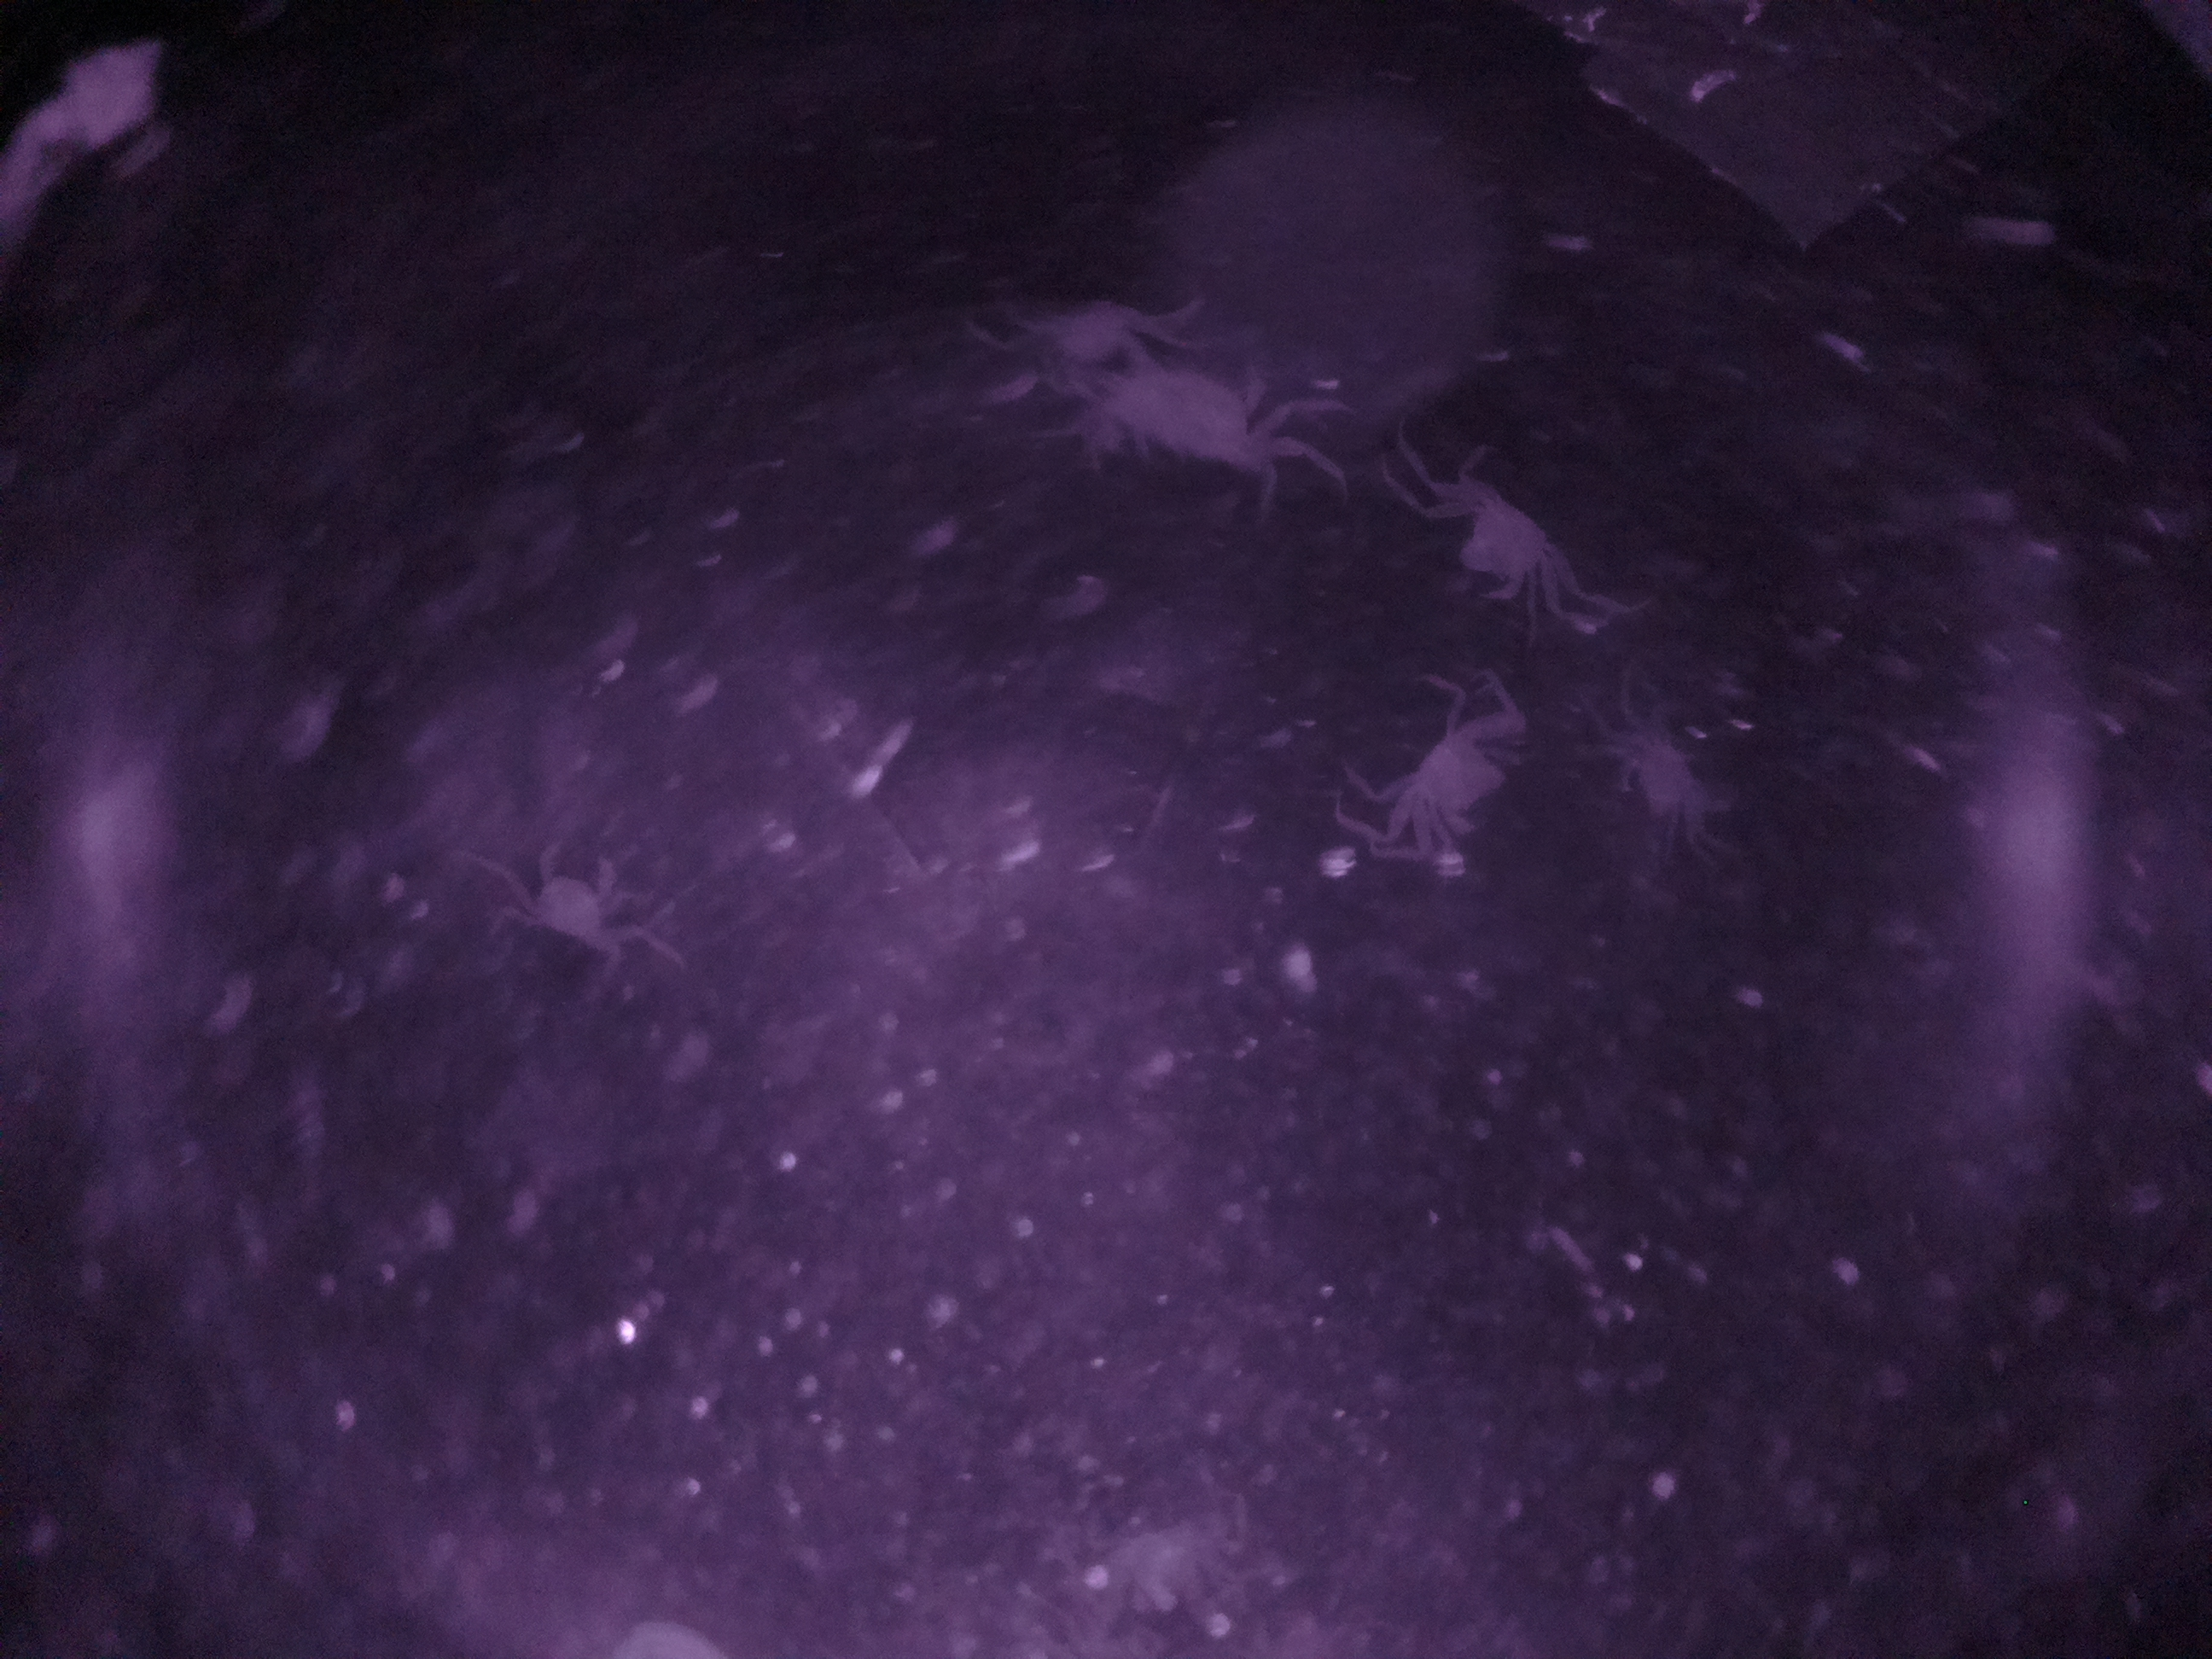Crab: (1407, 439, 1615, 626), (1359, 681, 1540, 877)
